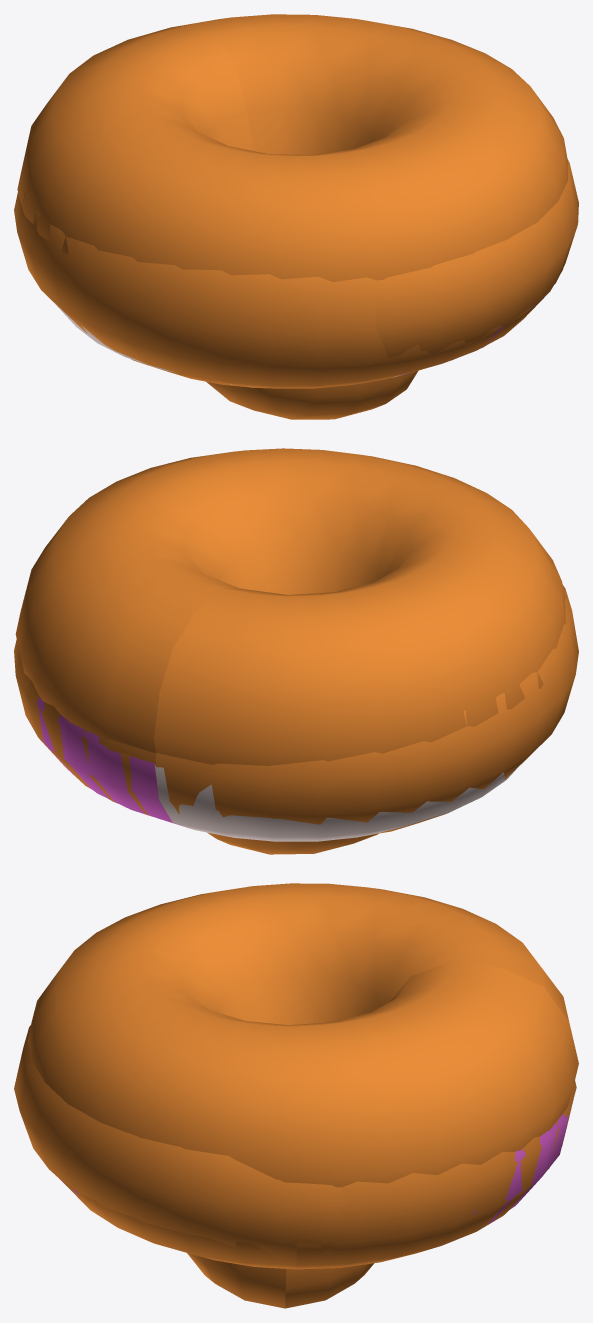
The model's file is Donuts.fbx.
The picture shows the model from 3 angles, top to bottom: view 1: azimuth 30°, elevation 25°; view 2: azimuth 150°, elevation 25°; view 3: azimuth 270°, elevation 25°; orthographic projection.
Parts seen in each view (by area): view 1: DonutHalloweenA_DonutsHalloween_0, DonutHalloweenC_DonutsHalloween_0, DonutHalloweenB_DonutsHalloween_0; view 2: DonutHalloweenA_DonutsHalloween_0, DonutHalloweenC_DonutsHalloween_0, DonutWhiteA_DonutsWhite_0, DonutPinkA_DonutsPink_0, DonutHalloweenB_DonutsHalloween_0; view 3: DonutHalloweenA_DonutsHalloween_0, DonutHalloweenB_DonutsHalloween_0, DonutHalloweenC_DonutsHalloween_0, DonutPinkA_DonutsPink_0.
Boxes of the visible parts, x1,y1,x2,y2 form: DonutHalloweenA_DonutsHalloween_0: (17,14,567,419); DonutHalloweenC_DonutsHalloween_0: (14,192,563,388); DonutHalloweenB_DonutsHalloween_0: (131,159,578,388); DonutHalloweenA_DonutsHalloween_0: (15,448,565,854); DonutHalloweenC_DonutsHalloween_0: (14,585,578,824); DonutWhiteA_DonutsWhite_0: (154,761,523,841); DonutPinkA_DonutsPink_0: (29,696,174,823); DonutHalloweenB_DonutsHalloween_0: (99,736,449,834); DonutHalloweenA_DonutsHalloween_0: (27,883,578,1308); DonutHalloweenB_DonutsHalloween_0: (14,1025,576,1259); DonutHalloweenC_DonutsHalloween_0: (59,1107,571,1269); DonutPinkA_DonutsPink_0: (61,1099,573,1223).
Bounding box in the file's own units: 1650 × 1035 × 1656.
